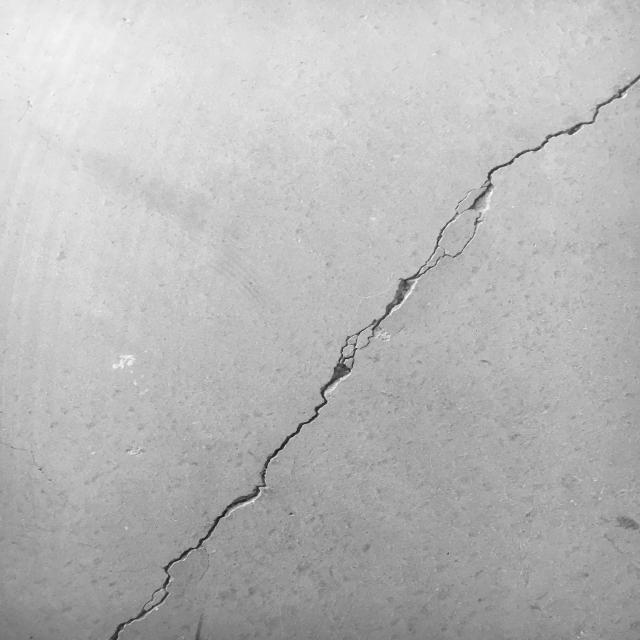SurfaceCrack: (39, 1, 638, 640)
